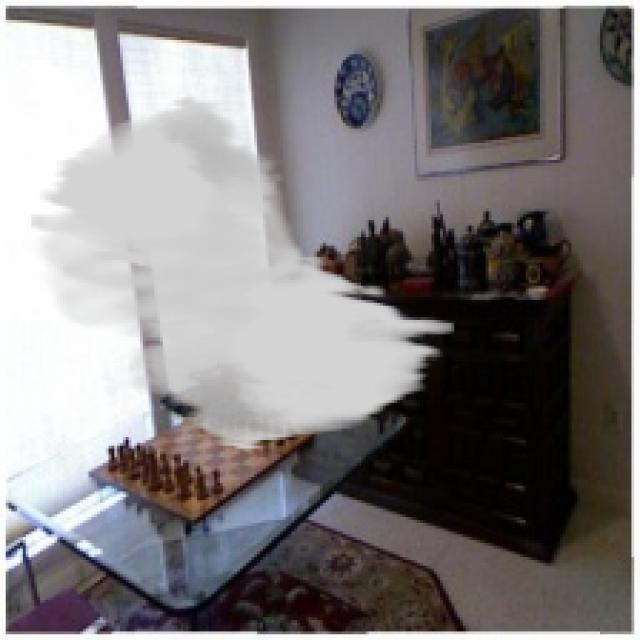Smoke: (28, 94, 454, 452)
